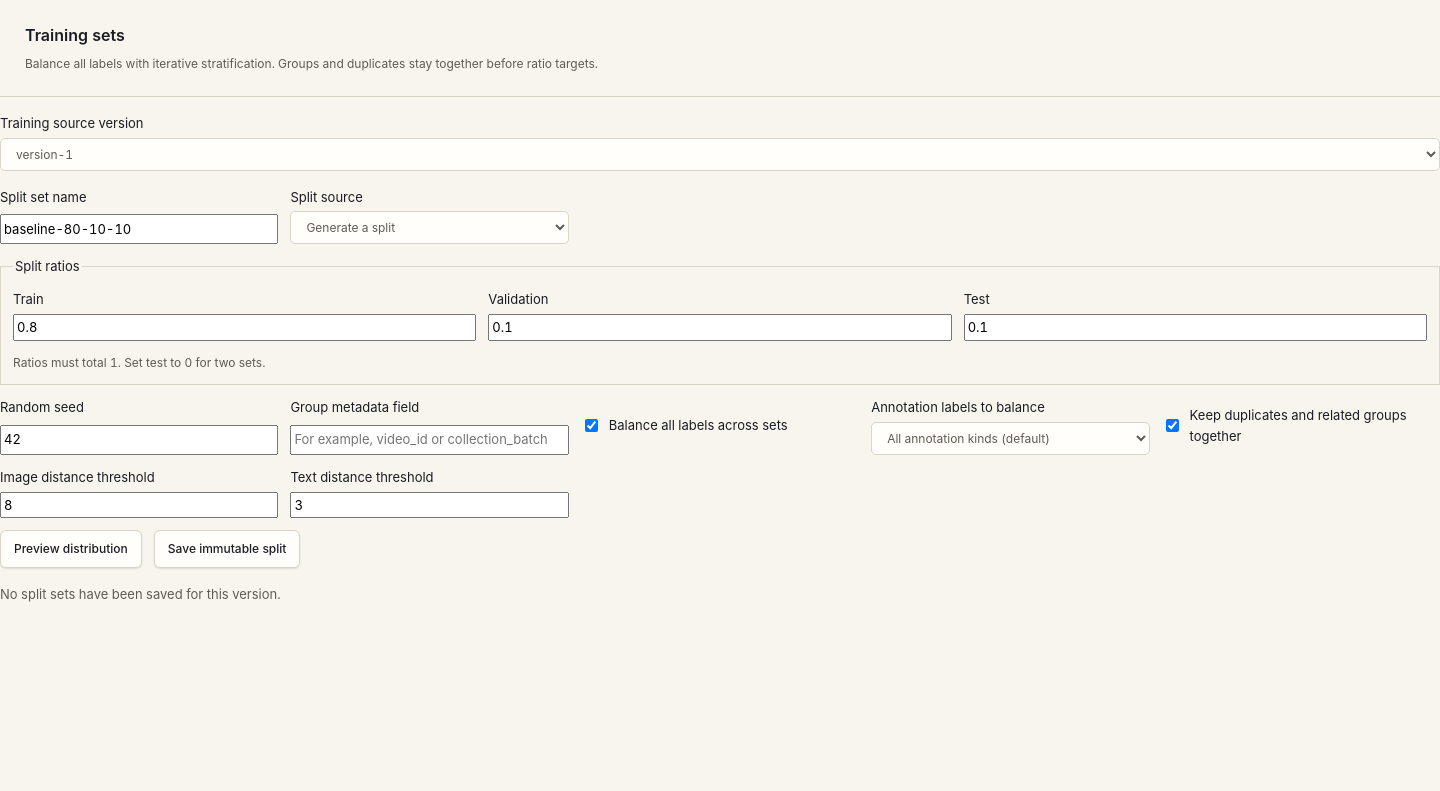
Test: previews configured ratios without saving and saves a named immutable split
Check: the text "No split sets have been saved for this version." is shown, box [0,586,281,602]
Replace the text in the field labelled "Split set name" with "baseline". click: [139, 229]
box: [0,214,278,244]
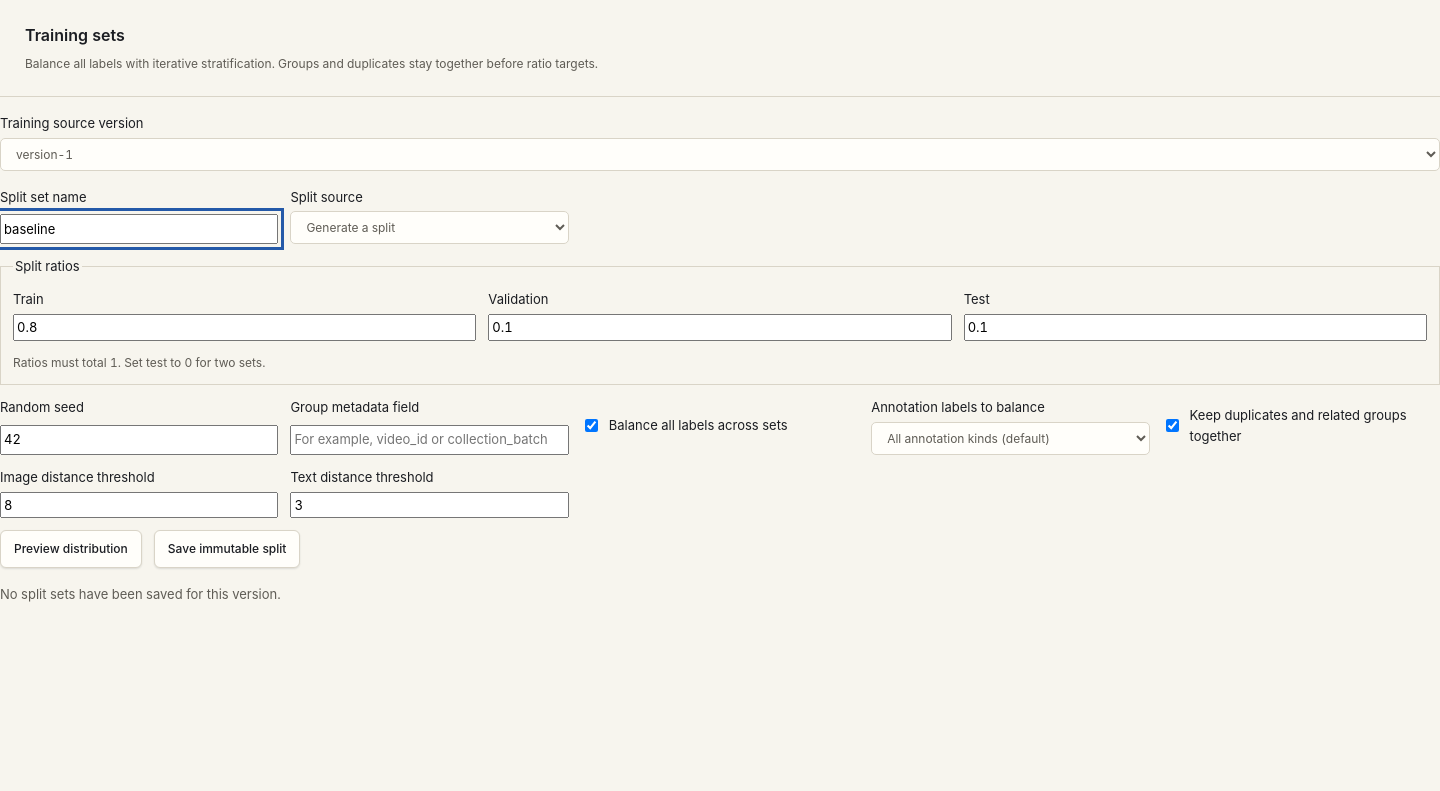
Type "batch" into the field labelled "Group metadata field". click: [430, 440]
box: [290,425,569,455]
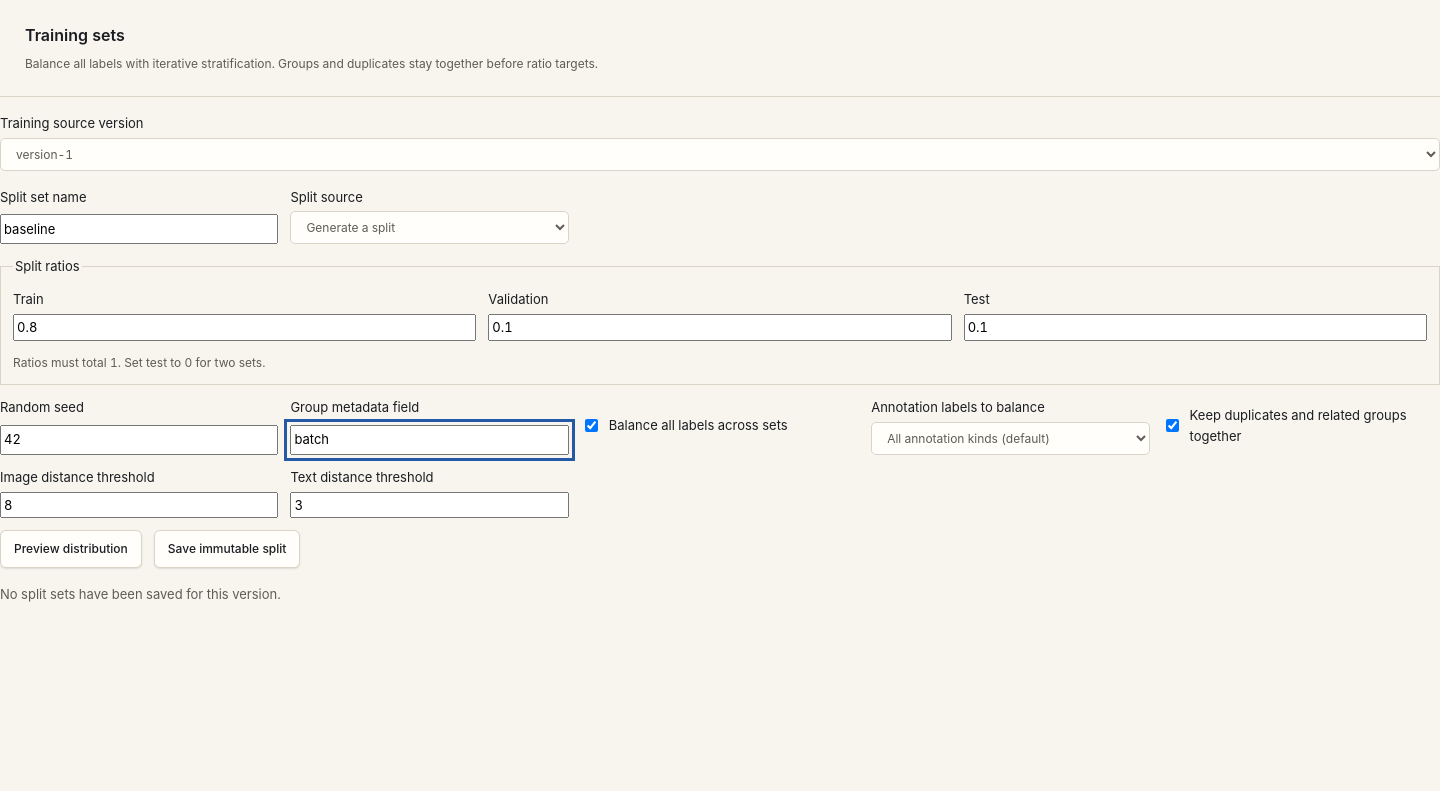
Click the button "Preview distribution". click: [71, 549]
box: [0,530,142,568]
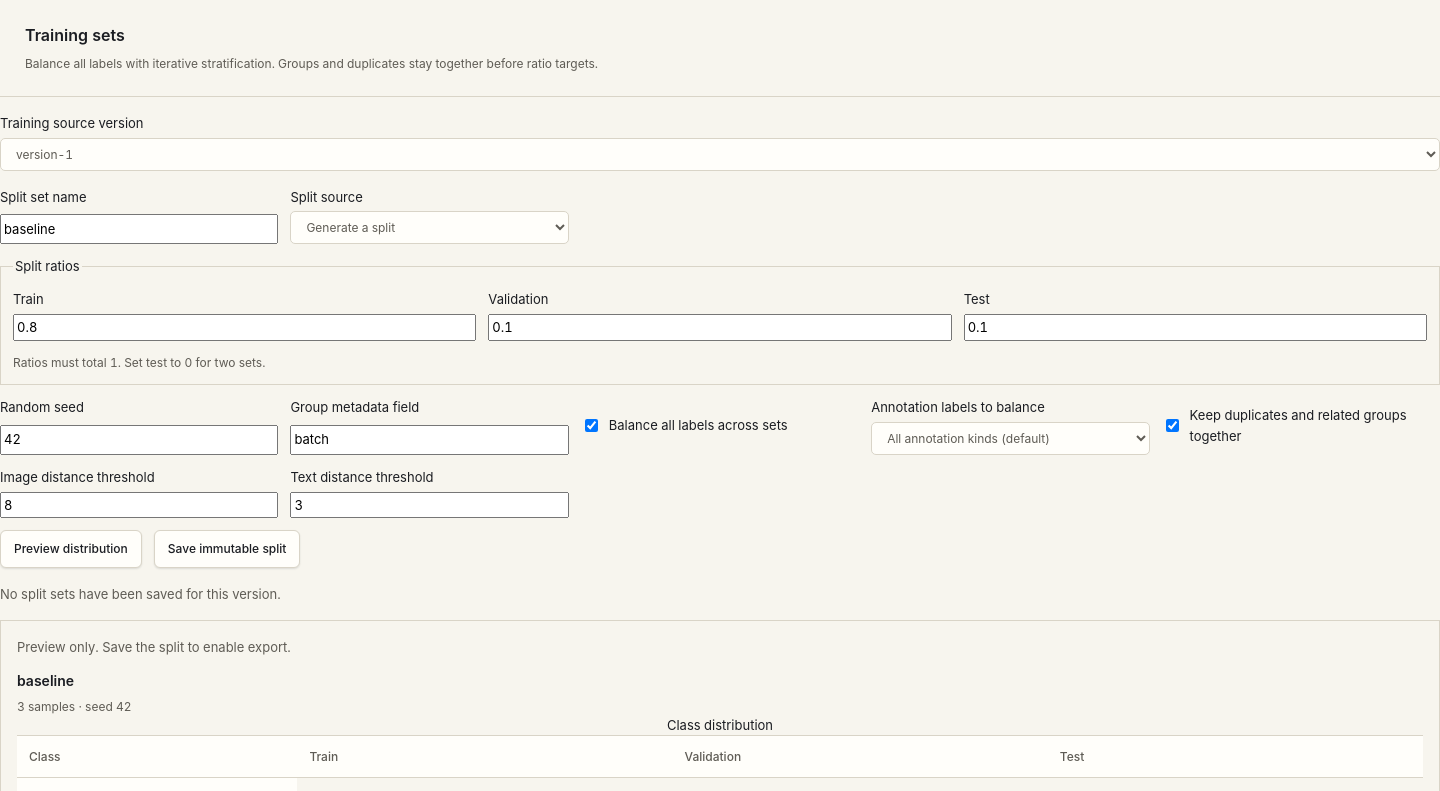
Check: the text "Preview only. Save the split to enable export." is shown, box [17,639,291,655]
Click the button "Save immutable split". click: [227, 549]
box: [154,530,300,568]
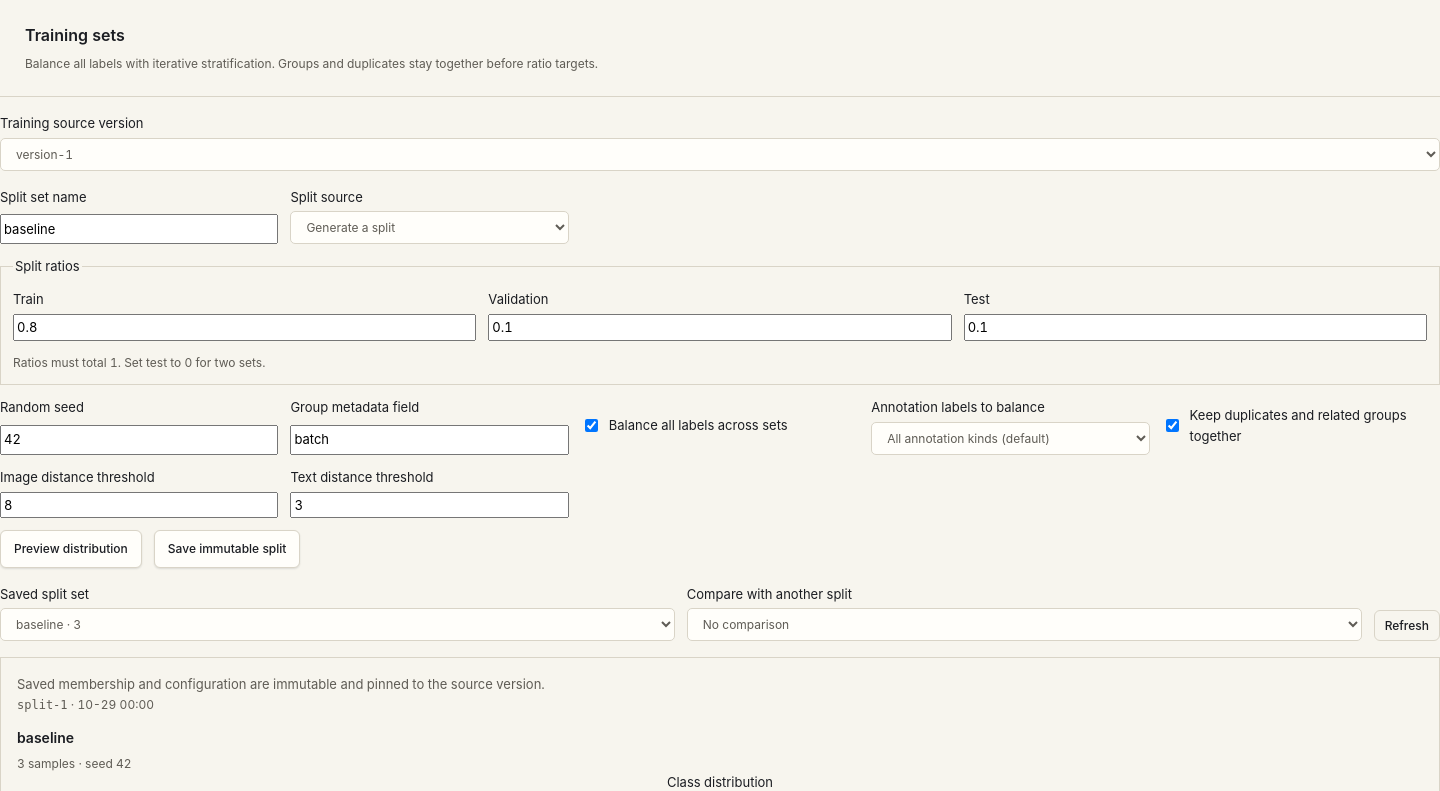
Check: the dropdown labelled "Saved split set" shows "baseline · 3", box [0,608,675,641]
